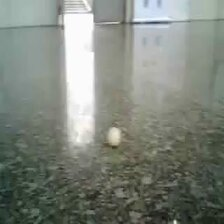w: (106, 126, 124, 147)
